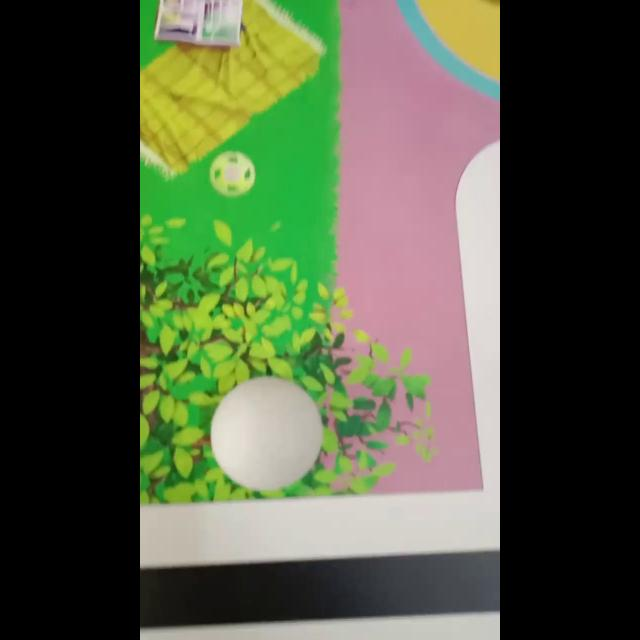white ball: (209, 375, 323, 491)
